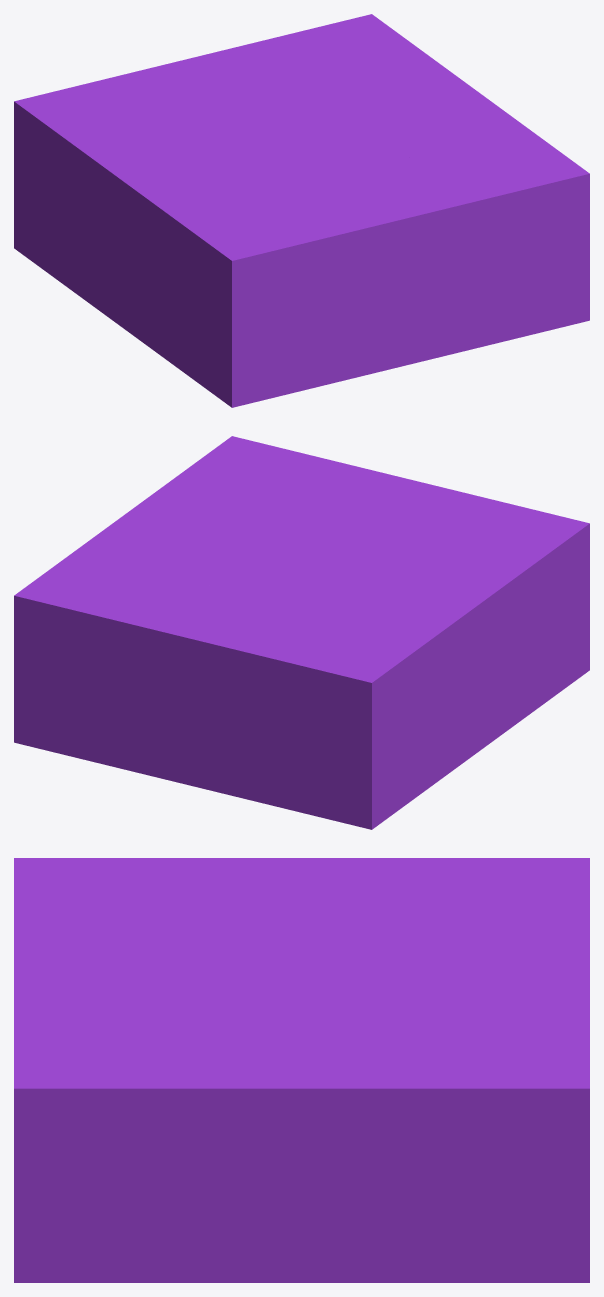
The model's file is ExhibitGlass.001_chunks.fbx.
3 views of the same model, one above another, from view 1: azimuth 30°, elevation 25°; view 2: azimuth 150°, elevation 25°; view 3: azimuth 270°, elevation 25° (orthographic). The views are drawn at different scales.
Visible parts, largest first — view 1: ExhibitGlass.001_4, ExhibitGlass.001_11, ExhibitGlass.001_7, ExhibitGlass.001_6, ExhibitGlass.001_12, ExhibitGlass.001_24, ExhibitGlass.001_23, ExhibitGlass.001_9, ExhibitGlass.001_3, ExhibitGlass.001_10, ExhibitGlass.001_0, ExhibitGlass.001_1 (+5 smaller); view 2: ExhibitGlass.001_4, ExhibitGlass.001_7, ExhibitGlass.001_1, ExhibitGlass.001_12, ExhibitGlass.001_19, ExhibitGlass.001_23, ExhibitGlass.001_11, ExhibitGlass.001_24, ExhibitGlass.001_18, ExhibitGlass.001_20, ExhibitGlass.001_21, ExhibitGlass.001_9 (+5 smaller); view 3: ExhibitGlass.001_1, ExhibitGlass.001_2, ExhibitGlass.001_12, ExhibitGlass.001_11, ExhibitGlass.001_10, ExhibitGlass.001_24, ExhibitGlass.001_23, ExhibitGlass.001_4, ExhibitGlass.001_7, ExhibitGlass.001_9, ExhibitGlass.001_0, ExhibitGlass.001_8 (+3 smaller).
Part boxes in pixels (box(x1,y1,x2,y2)): ExhibitGlass.001_4: box(127, 184, 344, 407); ExhibitGlass.001_11: box(341, 139, 589, 296); ExhibitGlass.001_7: box(14, 123, 238, 315); ExhibitGlass.001_6: box(293, 196, 547, 355); ExhibitGlass.001_12: box(262, 73, 509, 163); ExhibitGlass.001_24: box(161, 29, 321, 147); ExhibitGlass.001_23: box(14, 80, 235, 154); ExhibitGlass.001_9: box(233, 142, 379, 213); ExhibitGlass.001_3: box(278, 330, 446, 396); ExhibitGlass.001_10: box(492, 115, 589, 310); ExhibitGlass.001_0: box(309, 33, 451, 73); ExhibitGlass.001_1: box(308, 14, 432, 58); ExhibitGlass.001_4: box(420, 498, 589, 742); ExhibitGlass.001_7: box(368, 567, 500, 815); ExhibitGlass.001_1: box(14, 551, 163, 778); ExhibitGlass.001_12: box(95, 489, 330, 583); ExhibitGlass.001_19: box(90, 636, 246, 793); ExhibitGlass.001_23: box(265, 577, 401, 718); ExhibitGlass.001_11: box(193, 436, 447, 517); ExhibitGlass.001_24: box(78, 578, 356, 641); ExhibitGlass.001_18: box(226, 746, 390, 829); ExhibitGlass.001_20: box(197, 668, 377, 759); ExhibitGlass.001_21: box(111, 629, 293, 696); ExhibitGlass.001_9: box(316, 507, 438, 571); ExhibitGlass.001_1: box(310, 1046, 589, 1282); ExhibitGlass.001_2: box(14, 1106, 351, 1282); ExhibitGlass.001_12: box(171, 951, 460, 1124); ExhibitGlass.001_11: box(14, 942, 180, 1159); ExhibitGlass.001_10: box(14, 1064, 291, 1241); ExhibitGlass.001_24: box(318, 934, 589, 1047); ExhibitGlass.001_23: box(303, 858, 589, 939); ExhibitGlass.001_4: box(14, 858, 249, 930); ExhibitGlass.001_7: box(248, 858, 510, 925); ExhibitGlass.001_9: box(71, 916, 316, 993); ExhibitGlass.001_0: box(336, 1027, 580, 1122); ExhibitGlass.001_8: box(266, 924, 481, 1029).
Size of the model in its own units: 681 by 267 by 719.
